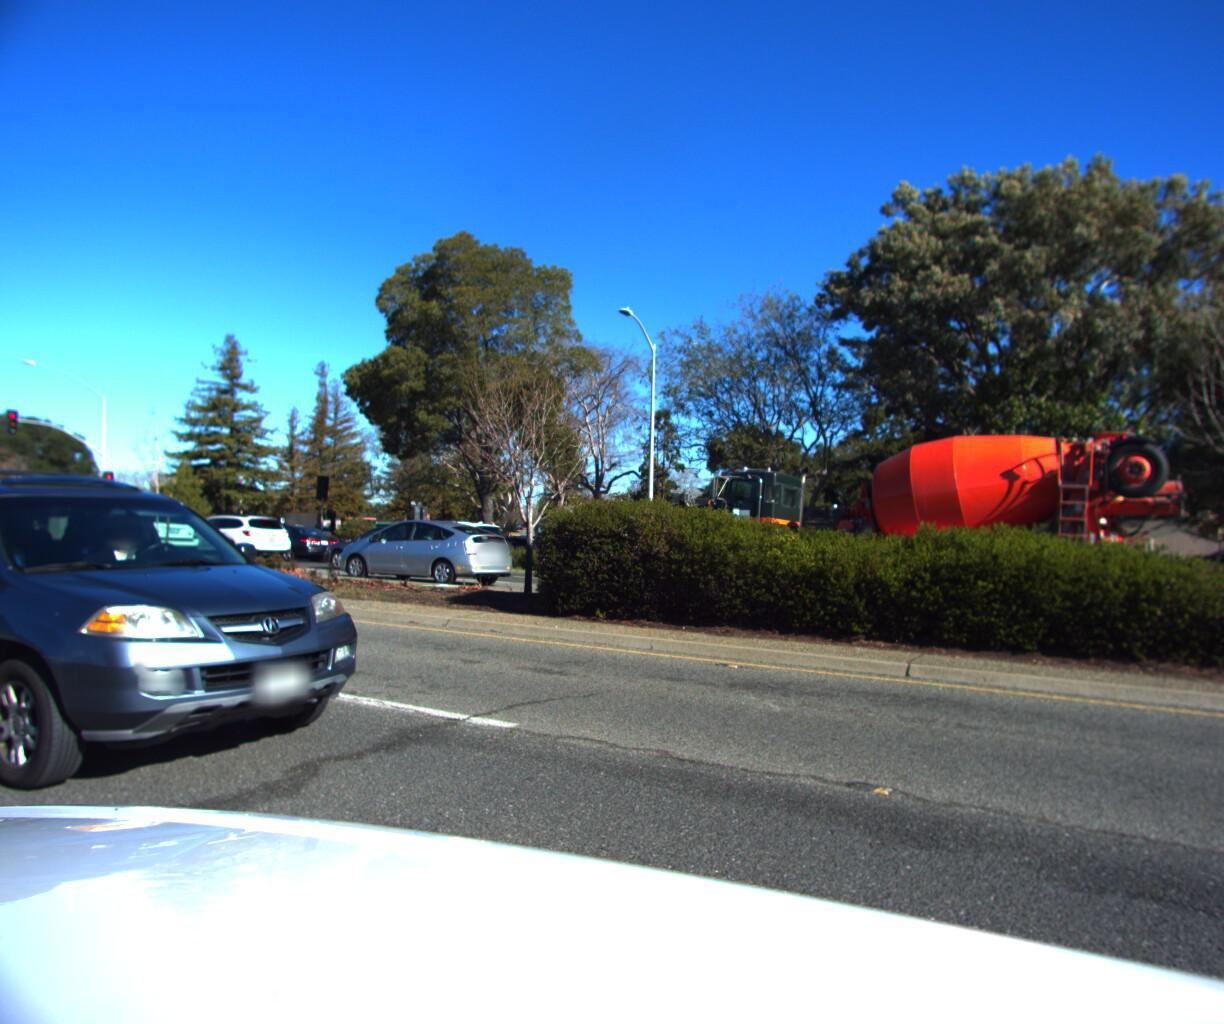car: (328, 517, 522, 588), (316, 523, 476, 575), (369, 518, 513, 574), (159, 514, 297, 569), (220, 525, 345, 568)
truck: (630, 395, 1201, 621)
